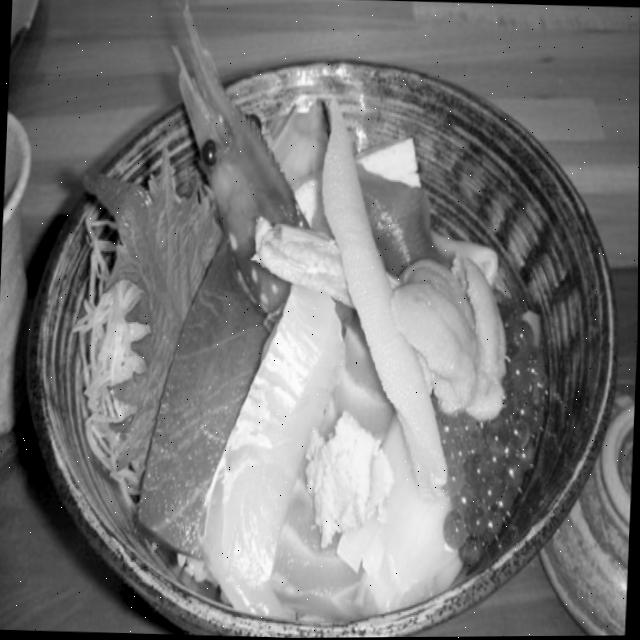刺身生食: (18, 0, 626, 640)
